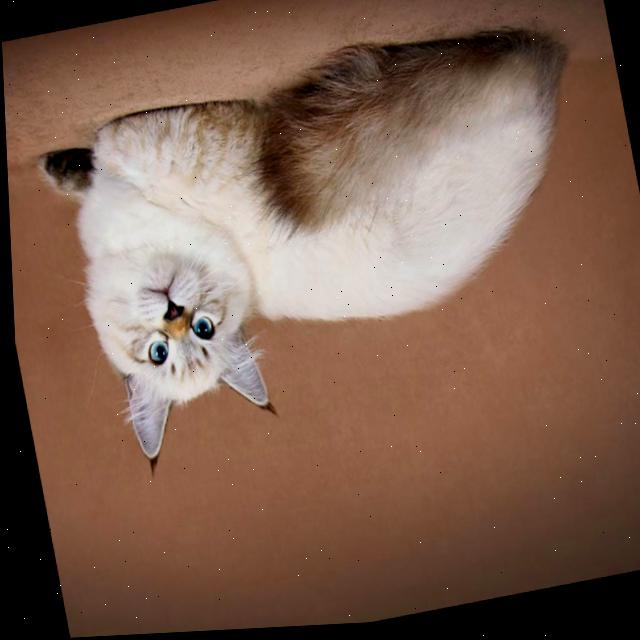Neva Masquerade: (21, 7, 629, 488)
